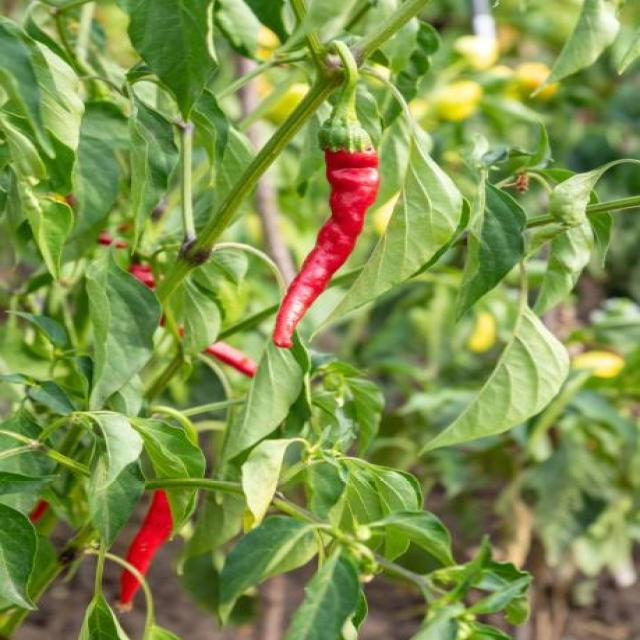Ripe: (272, 148, 382, 351), (112, 491, 182, 612)
